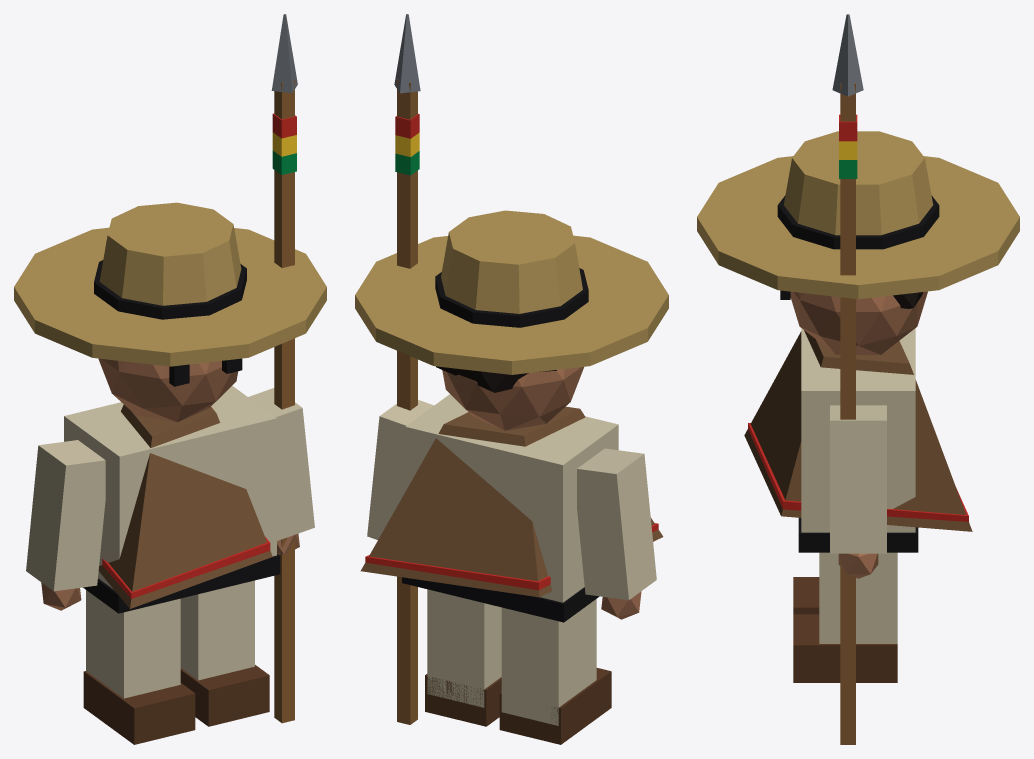
File: Org Lancero.fbx
3 views of the same model, side by side, from view 1: azimuth 30°, elevation 25°; view 2: azimuth 150°, elevation 25°; view 3: azimuth 270°, elevation 25° (orthographic). The views are drawn at different scales.
Parts seen in each view (by area): view 1: Org Lancero; view 2: Org Lancero; view 3: Org Lancero.
Boxes of the visible parts, x1=… form: Org Lancero: x1=14, y1=14, x2=326, y2=744; Org Lancero: x1=355, y1=14, x2=668, y2=744; Org Lancero: x1=697, y1=14, x2=1019, y2=744.
Bounding box in the file's own units: 0.62 × 1.54 × 0.62.
